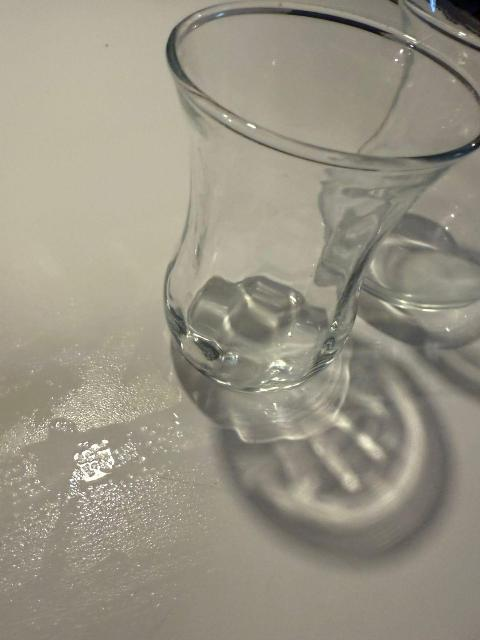Cam: (132, 0, 480, 399)
